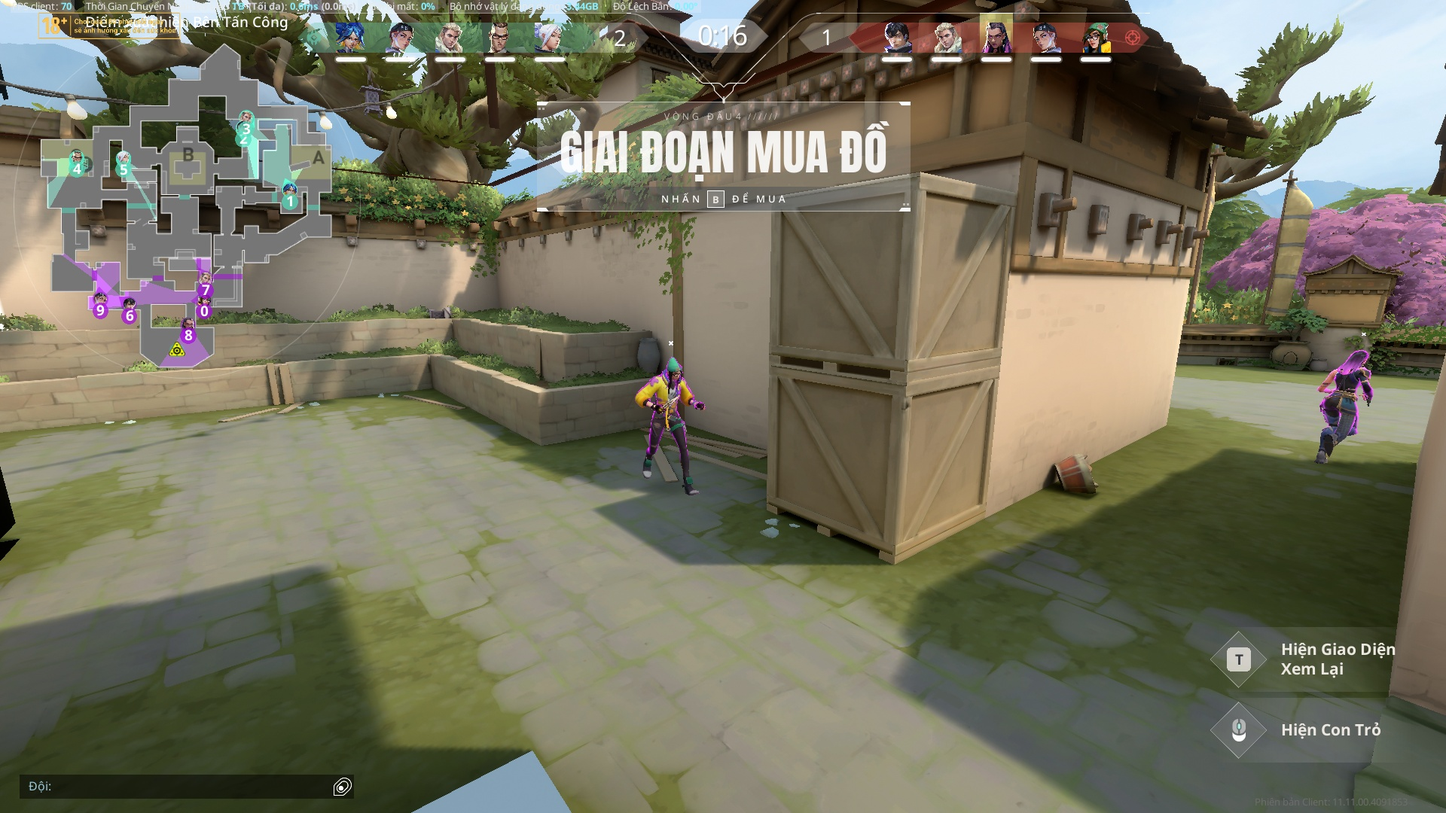body: (652, 373, 685, 409), (1333, 363, 1362, 393)
head: (1348, 349, 1368, 364), (666, 364, 682, 381)
